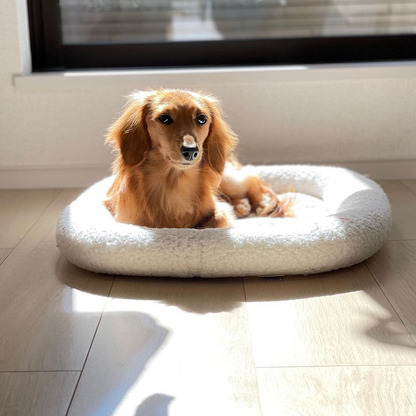dachshund: (71, 81, 313, 235)
